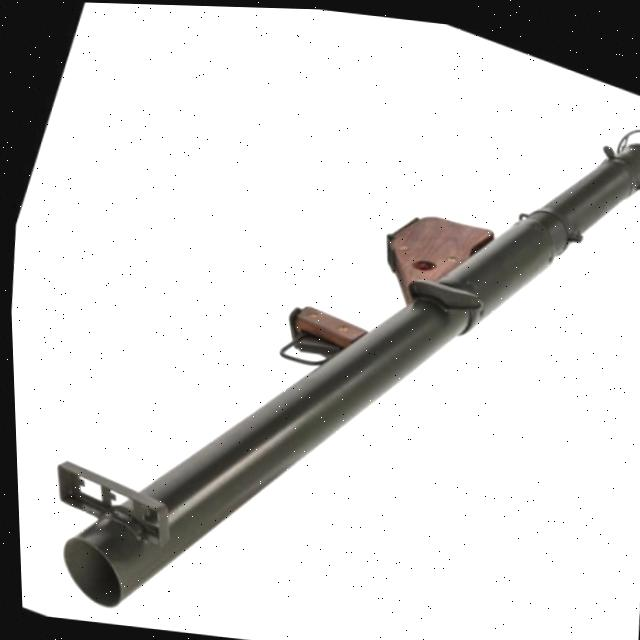rocket: (20, 0, 640, 640)
